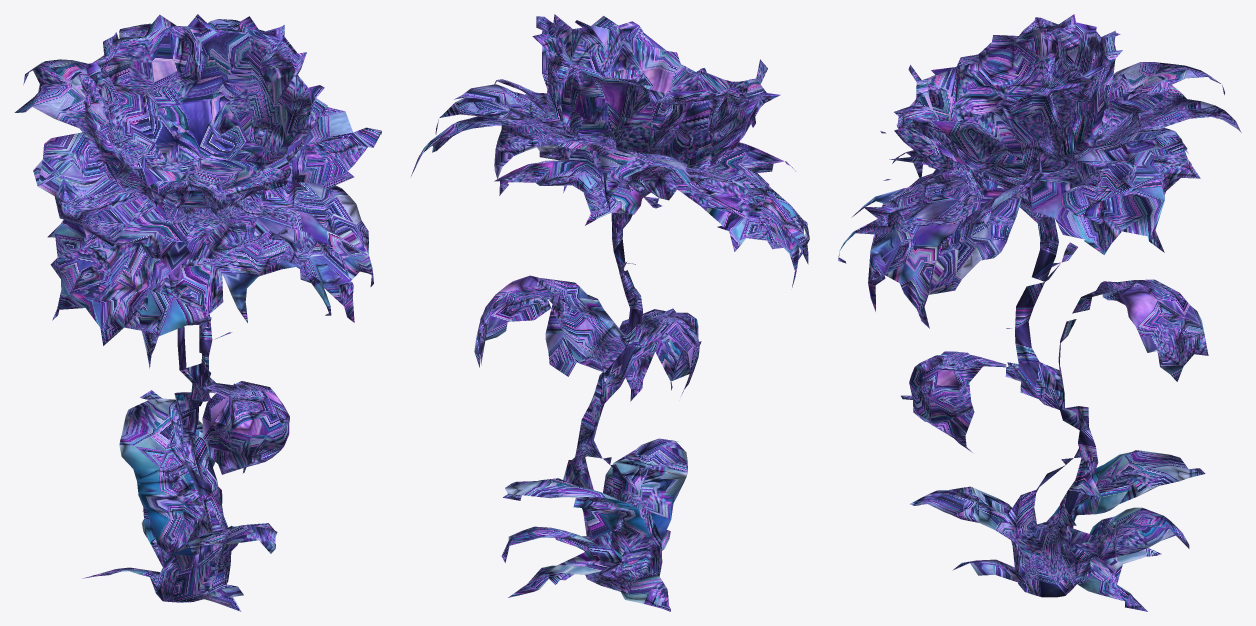
Rendered from nebula-bloom.glb.
3 renders of one model, left to right at view 1: azimuth 30°, elevation 25°; view 2: azimuth 150°, elevation 25°; view 3: azimuth 270°, elevation 25°, orthographic.
Size of the model in its own units: 1.16 by 1.89 by 1.29.
Materials: 1 (1 with a texture image).
